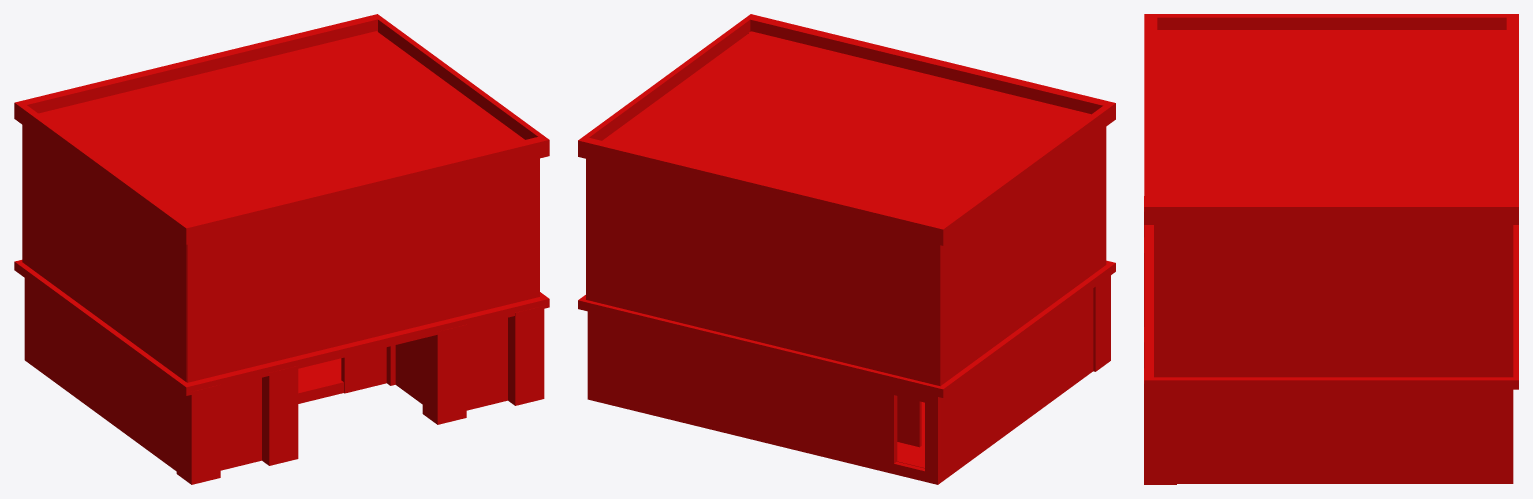
The model's file is SM_Bld_Shop_Medium_01_Collision.fbx.
The picture shows the model from 3 angles, left to right: view 1: azimuth 30°, elevation 25°; view 2: azimuth 150°, elevation 25°; view 3: azimuth 270°, elevation 25°; orthographic projection. The views are drawn at different scales.
Parts seen in each view (by area): view 1: SM_Bld_Shop_Medium_01_Collision; view 2: SM_Bld_Shop_Medium_01_Collision; view 3: SM_Bld_Shop_Medium_01_Collision.
Part boxes in pixels (left/top/right/bottom): SM_Bld_Shop_Medium_01_Collision: left=14, top=14, right=549, bottom=484; SM_Bld_Shop_Medium_01_Collision: left=578, top=14, right=1115, bottom=484; SM_Bld_Shop_Medium_01_Collision: left=1144, top=14, right=1518, bottom=484.
Bounding box in the file's own units: 1252 × 849 × 1027.
